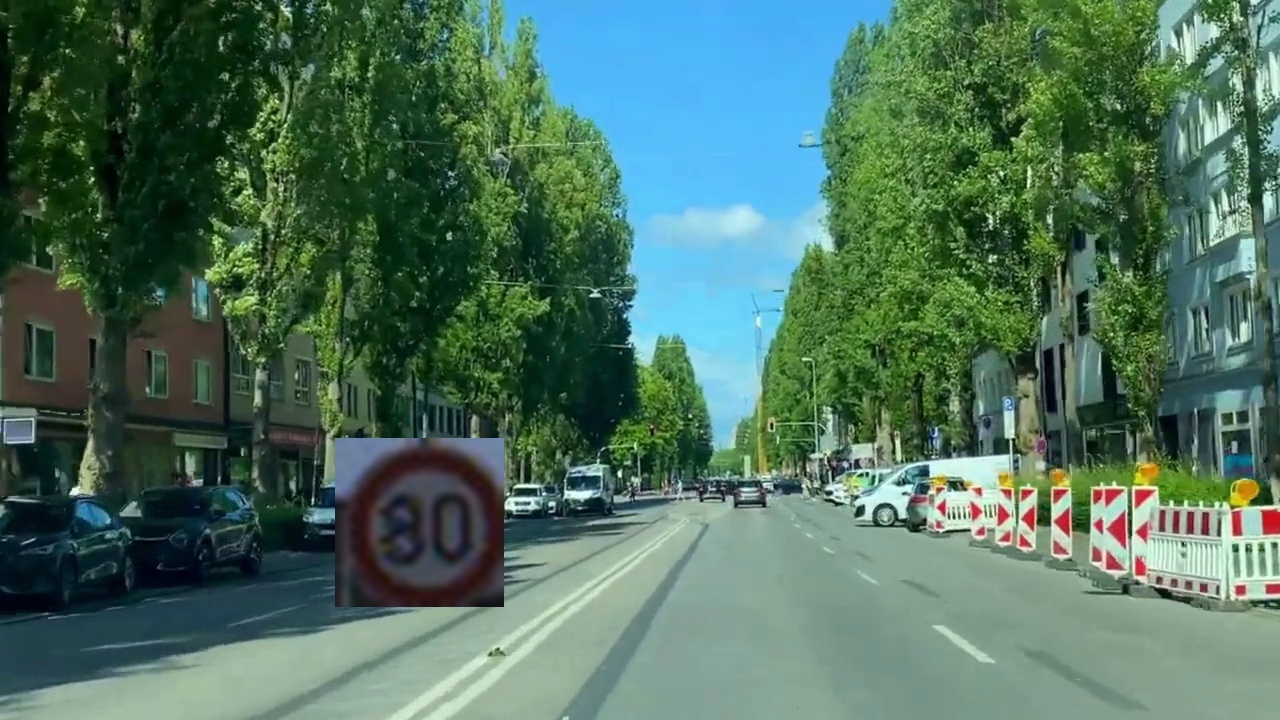Speed 80: (335, 438, 504, 607)
